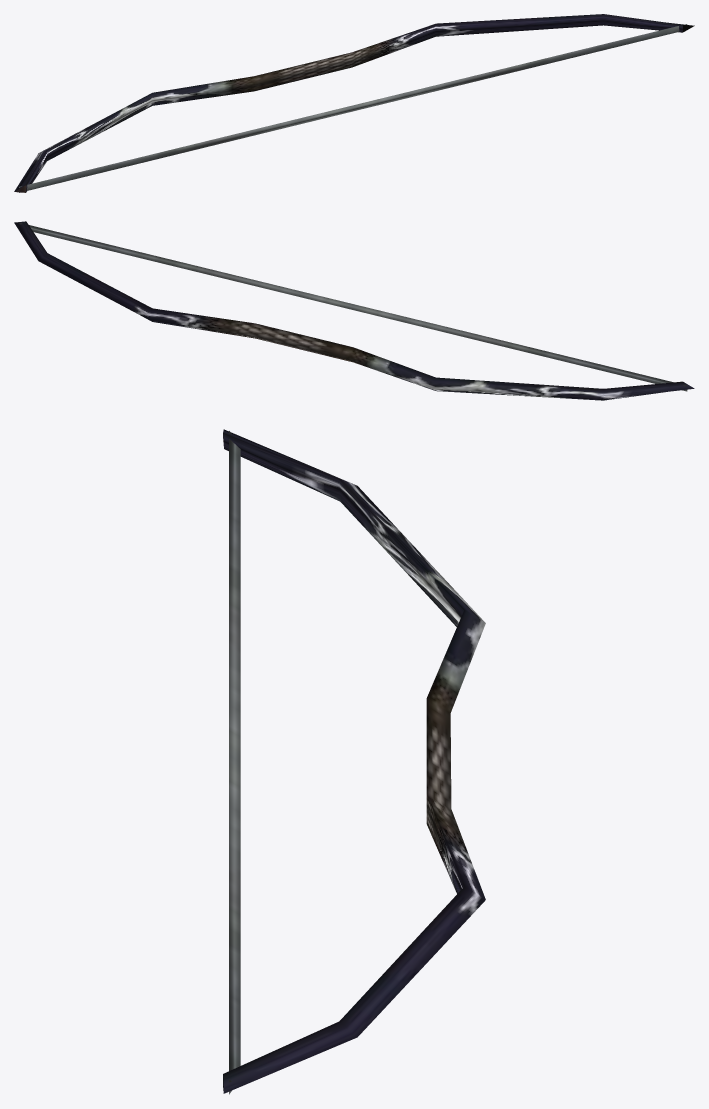
The model's file is ITRW_SLD_BOW_VANILLA.glb.
The picture shows the model from 3 angles, top to bottom: view 1: azimuth 30°, elevation 25°; view 2: azimuth 150°, elevation 25°; view 3: azimuth 270°, elevation 25°; orthographic projection. The views are drawn at different scales.
Parts seen in each view (by area): view 1: ITRW_SLD_BOW_VANILLA; view 2: ITRW_SLD_BOW_VANILLA; view 3: ITRW_SLD_BOW_VANILLA.
Boxes of the visible parts, x1=… form: ITRW_SLD_BOW_VANILLA: x1=14, y1=14, x2=694, y2=192; ITRW_SLD_BOW_VANILLA: x1=14, y1=221, x2=694, y2=400; ITRW_SLD_BOW_VANILLA: x1=223, y1=429, x2=485, y2=1094.
Size of the model in its own units: 2.03 by 0.0433 by 0.3399.
Materials: 1 (1 with a texture image).
